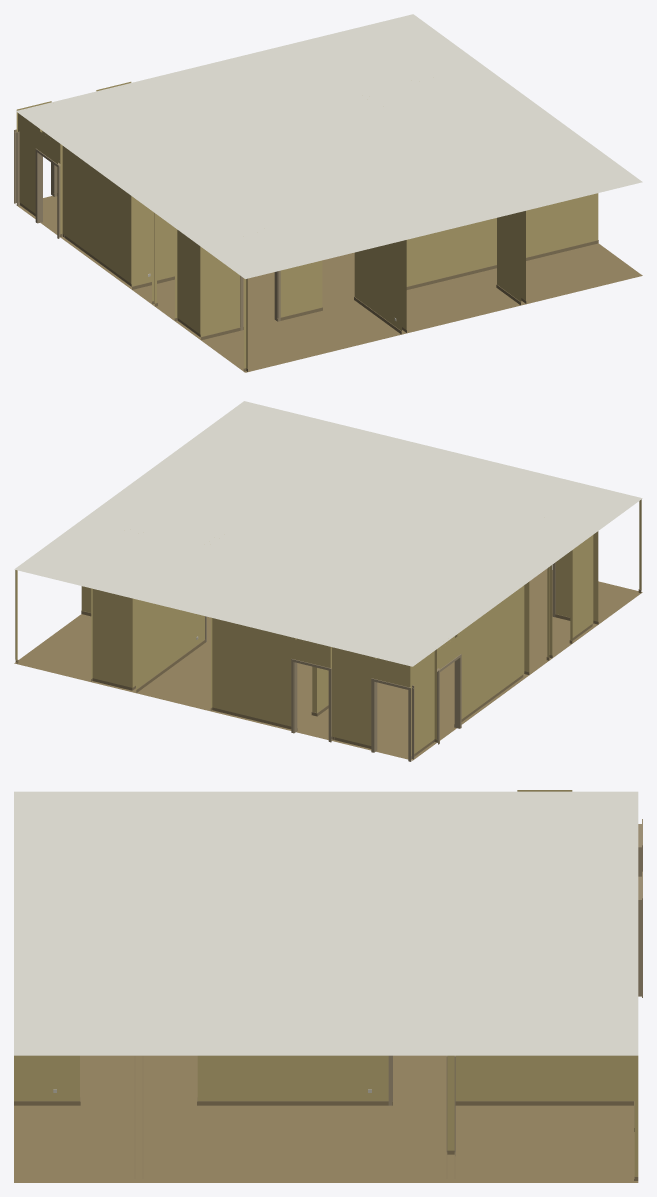
File: chunk_2_2.glb
The picture shows the model from 3 angles, top to bottom: view 1: azimuth 30°, elevation 25°; view 2: azimuth 150°, elevation 25°; view 3: azimuth 270°, elevation 25°; orthographic projection. The views are drawn at different scales.
Parts seen in each view (by area): view 1: chunk_2_2; view 2: chunk_2_2; view 3: chunk_2_2.
Part boxes in pixels (bbox=[...]): chunk_2_2: bbox=[14, 14, 642, 372]; chunk_2_2: bbox=[14, 401, 642, 761]; chunk_2_2: bbox=[14, 790, 642, 1182].
Size of the model in its own units: 12.1 by 2.7 by 12.09.
